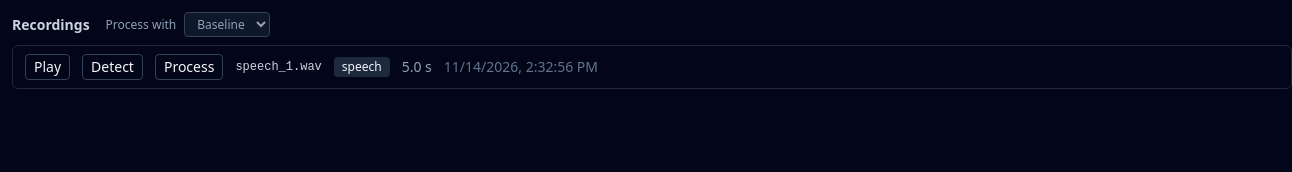
Test: processing a recording with a chosen method (step 07) › follows the session method and can be set per run
Expected: the dropdown named "Processing method" shows "Baseline", x1=184 y1=12 x2=270 y2=37
Click the button with aria-label "Process speech_1.wav": (189, 67) x1=155 y1=54 x2=223 y2=80
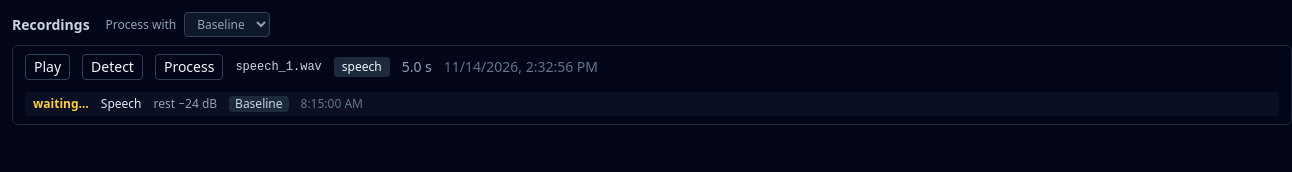
Expected: the list item with test id "run-run_1" is shown, x1=25 y1=92 x2=1279 y2=116
Select "Neural" in the dropdown named "Processing method": (227, 24) x1=184 y1=12 x2=270 y2=37
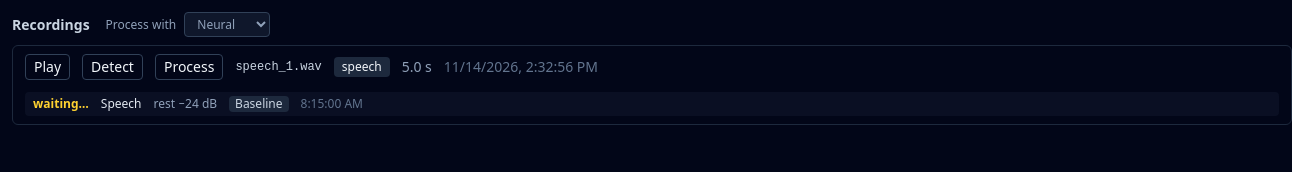
Click the button with aria-label "Process speech_1.wav": (189, 67) x1=155 y1=54 x2=223 y2=80
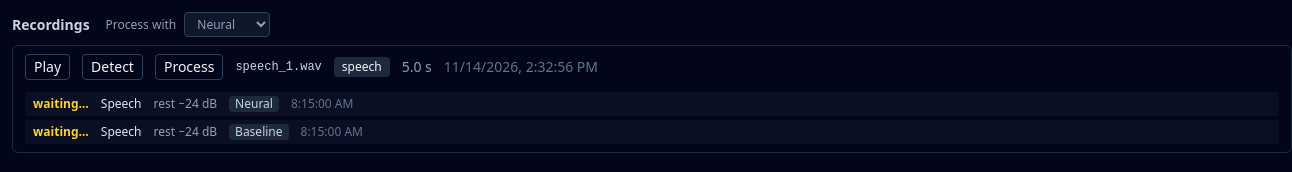
Expected: the list item with test id "run-run_1" shows "Baseline", x1=235 y1=123 x2=282 y2=140
Expected: the list item with test id "run-run_2" is shown, x1=25 y1=92 x2=1279 y2=116
Expected: the list item with test id "run-run_2" shows "Neural", x1=235 y1=95 x2=273 y2=112
